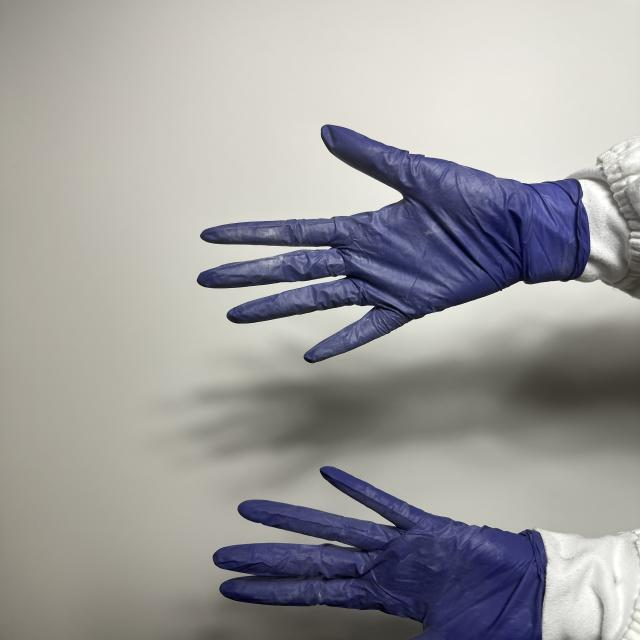gloves_contaminated: (197, 125, 589, 363), (214, 467, 550, 640)
